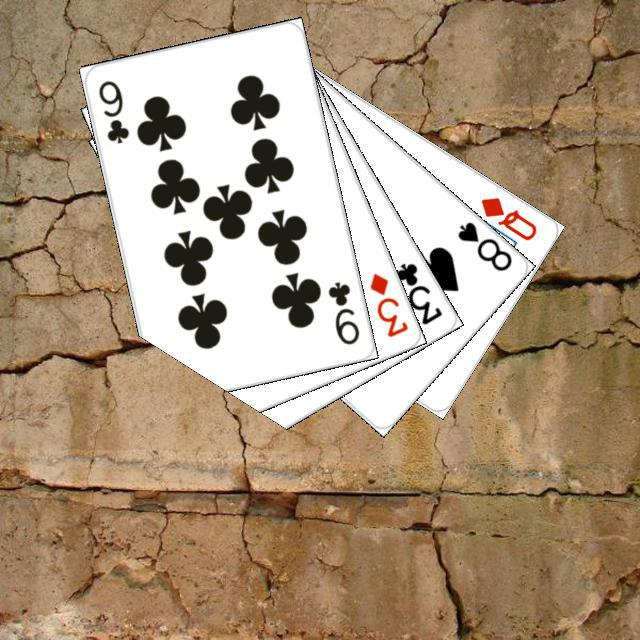3c: (390, 257, 445, 327)
3d: (364, 268, 410, 339)
8s: (452, 216, 514, 274)
9c: (323, 276, 361, 347), (93, 75, 131, 145)
Qd: (475, 192, 539, 243)
